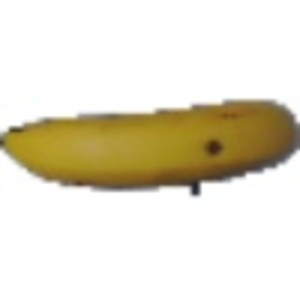banana: (3, 96, 289, 195)
